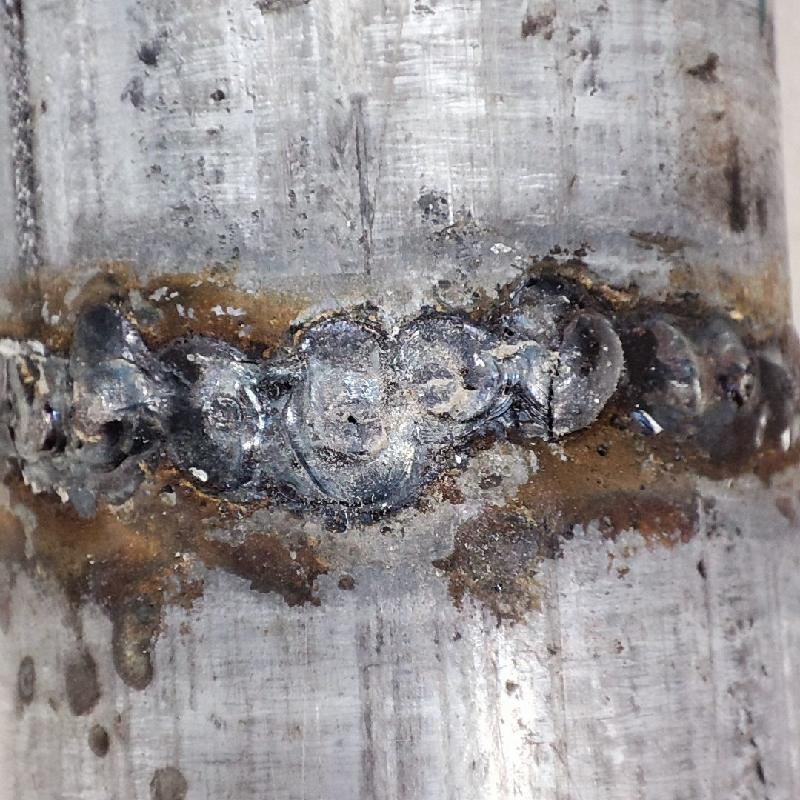Not_fully_soldered: (288, 295, 545, 497)
Surface_pores: (326, 401, 378, 444)
wrong_size: (1, 306, 293, 522), (550, 282, 799, 469)
